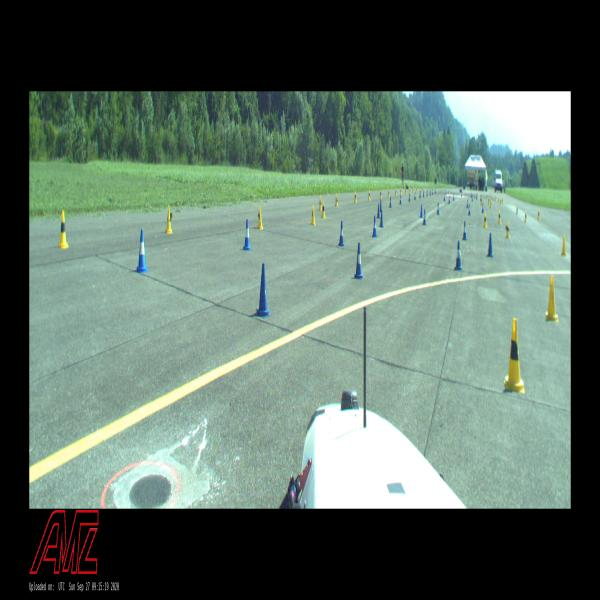blue_cone: (255, 263, 271, 317), (135, 229, 149, 273), (354, 243, 364, 279), (242, 219, 252, 250), (454, 241, 462, 270), (338, 221, 345, 247), (487, 233, 493, 257), (372, 216, 378, 238), (462, 220, 467, 240), (379, 210, 384, 227), (422, 209, 427, 225), (377, 203, 380, 218), (420, 204, 423, 218), (436, 202, 439, 215), (389, 196, 392, 208), (468, 204, 471, 215), (399, 194, 402, 205), (481, 202, 484, 212), (466, 199, 469, 208), (448, 196, 451, 204), (452, 194, 455, 201), (408, 193, 410, 202), (414, 192, 416, 199), (444, 194, 446, 201), (380, 199, 381, 213), (419, 191, 421, 198), (422, 191, 424, 198), (426, 190, 428, 196)
yellow_cone: (504, 318, 525, 394), (546, 275, 558, 322), (58, 210, 69, 248), (165, 206, 173, 234), (257, 206, 264, 229), (561, 234, 568, 256), (310, 204, 315, 226), (321, 201, 326, 218), (506, 221, 510, 238), (483, 212, 487, 228), (318, 195, 322, 210), (497, 210, 501, 224), (334, 193, 338, 206), (515, 204, 519, 215), (537, 209, 540, 220), (368, 190, 371, 201), (354, 192, 357, 203), (524, 211, 527, 222), (379, 190, 382, 198), (387, 189, 390, 197), (499, 198, 502, 205), (395, 188, 397, 196), (490, 200, 492, 208), (480, 198, 482, 206), (400, 188, 402, 194), (404, 188, 406, 194), (502, 197, 503, 204), (488, 198, 489, 205)
